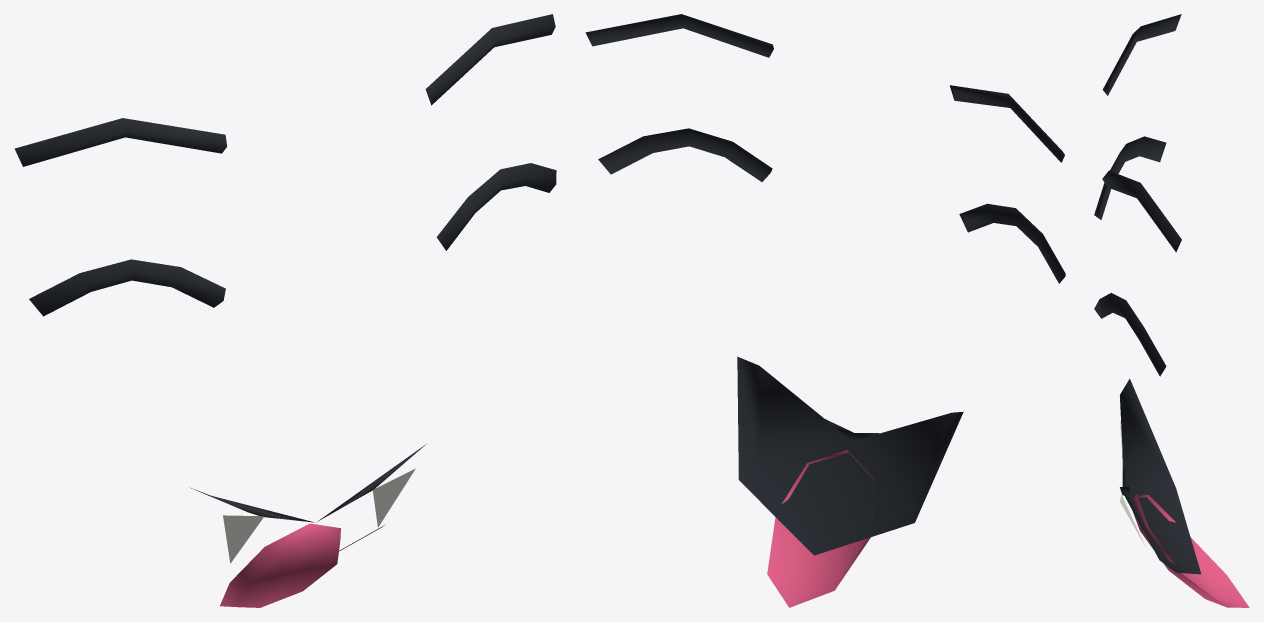
Rendered from face_vampire_01.glb.
3 renders of one model, left to right at view 1: azimuth 30°, elevation 25°; view 2: azimuth 150°, elevation 25°; view 3: azimuth 270°, elevation 25°, orthographic. The views are drawn at different scales.
Parts seen in each view (by area): view 1: Relief vampire; view 2: Relief vampire; view 3: Relief vampire.
Boxes of the visible parts, left/top/right/bottom form: Relief vampire: left=15, top=14, right=556, bottom=607; Relief vampire: left=585, top=14, right=1065, bottom=607; Relief vampire: left=1094, top=14, right=1249, bottom=607.
Bounding box in the file's own units: 0.1897 × 0.195 × 0.0547.
